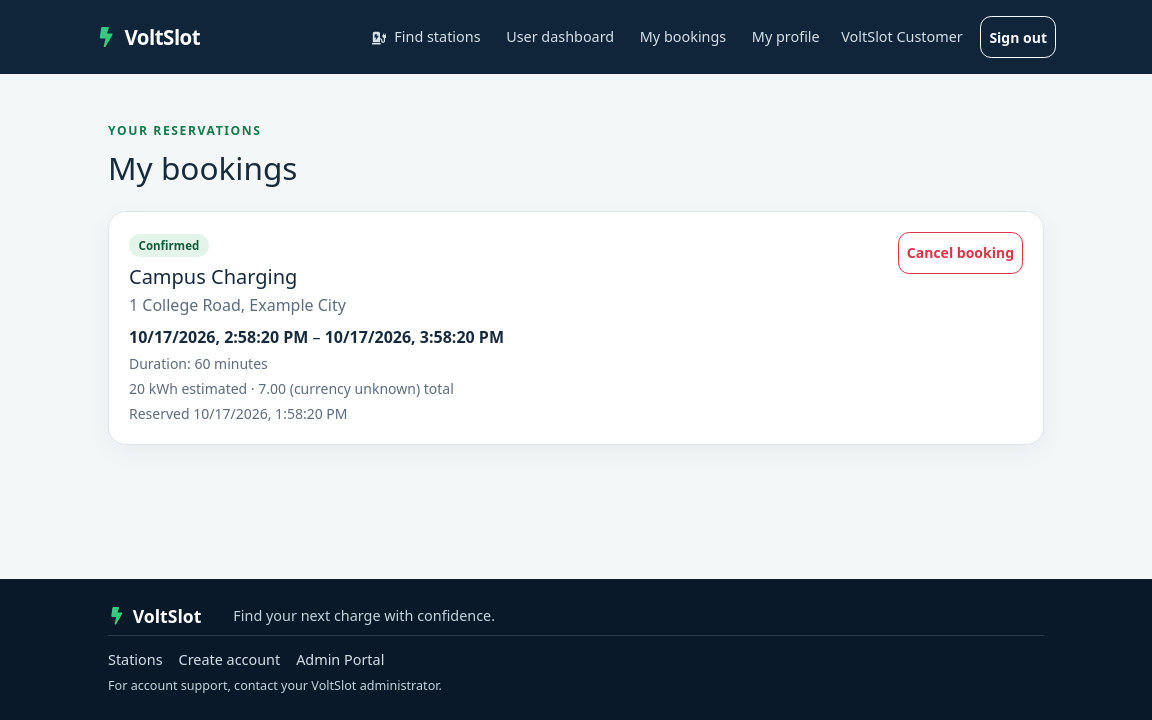
Test: VoltSlot station frontend › lists the current user bookings and lets them cancel an eligible booking
The width and height of the screenshot is (1152, 720).
Check: the heading "My bookings" is shown, box [108,146,298,189]
Check: the heading "Campus Charging" is shown, box [129,263,297,290]
Click the button "Cancel booking".
click(960, 253)  # box [898,232,1023,274]
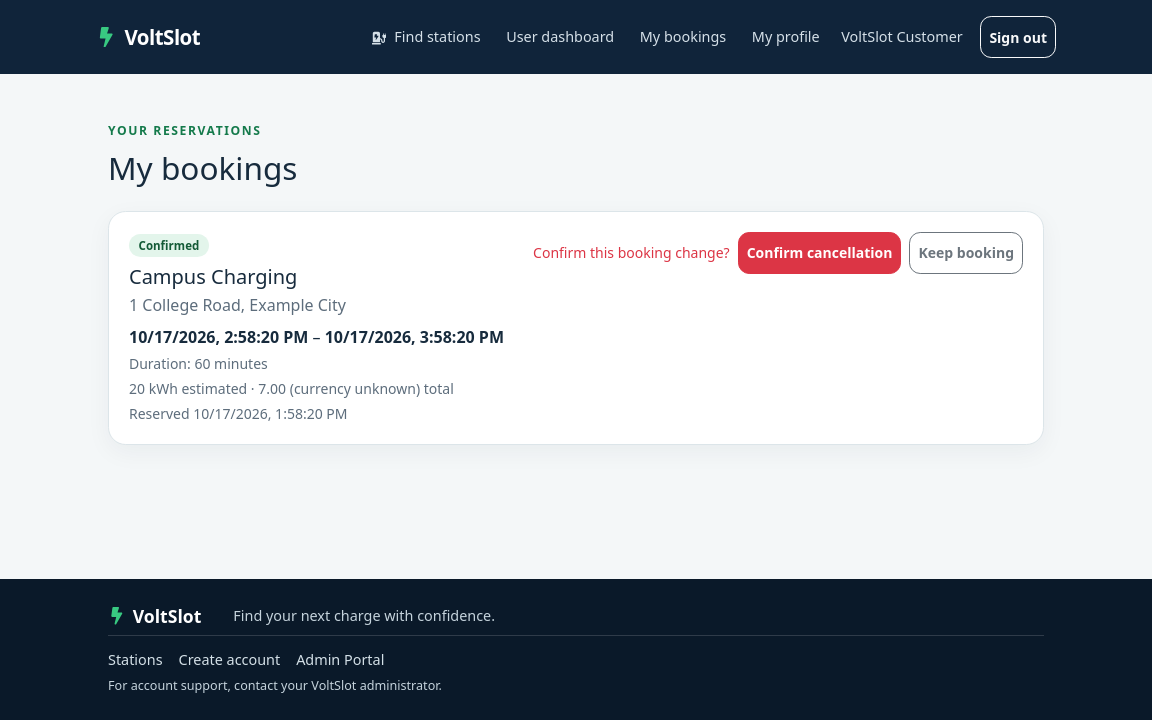
Click the button "Confirm cancellation".
click(820, 253)  # box [738,232,902,274]
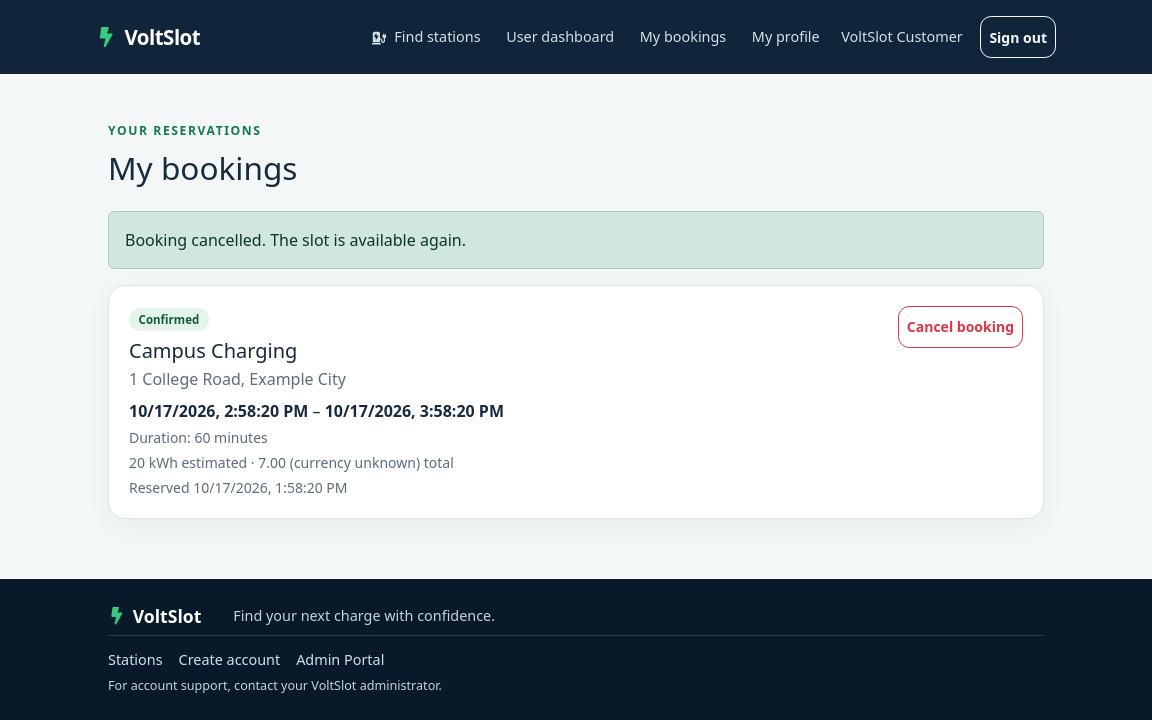
Check: the text "Booking cancelled. The slot is available again." is shown, box [108,210,1044,268]
